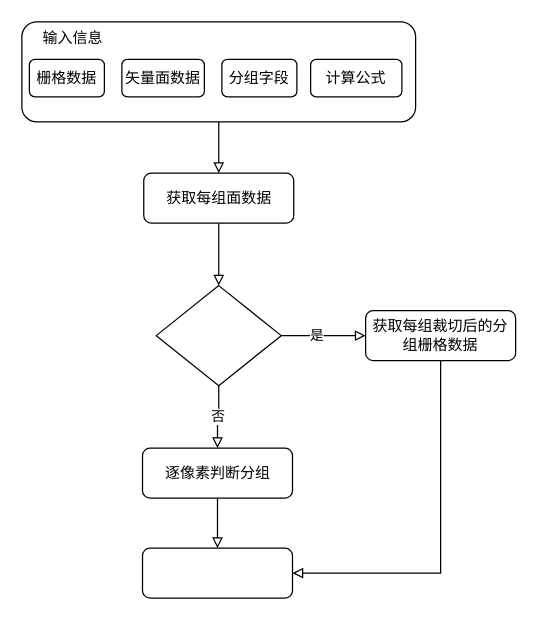
This 538x620 diagram has some shape labels left out. Each missing label, with the centre of its shape:
得到最终分组统计值: (216,572)
是否可以裁切？: (218,335)
